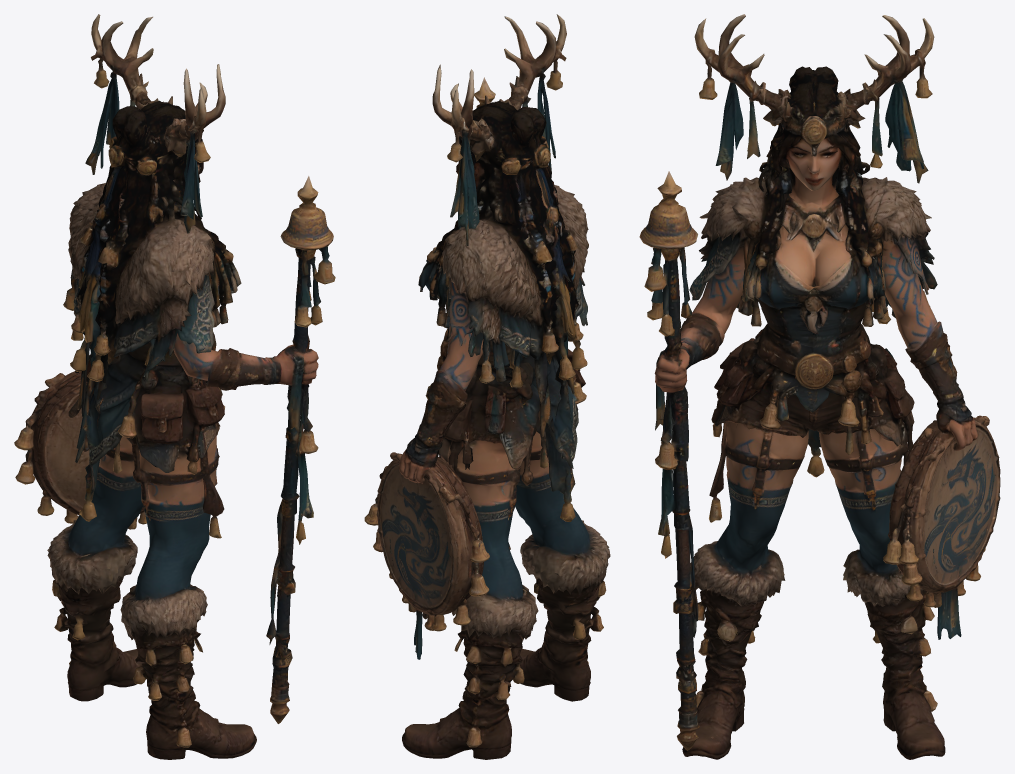
The model's file is drum_T3-tripo.glb.
The picture shows the model from 3 angles, left to right: view 1: azimuth 30°, elevation 25°; view 2: azimuth 150°, elevation 25°; view 3: azimuth 270°, elevation 25°; orthographic projection. The views are drawn at different scales.
Parts seen in each view (by area): view 1: tripo_node_dede4164-8c18-4496-936d-0f750398b5d3; view 2: tripo_node_dede4164-8c18-4496-936d-0f750398b5d3; view 3: tripo_node_dede4164-8c18-4496-936d-0f750398b5d3.
Boxes of the visible parts, left/top/right/bottom form: tripo_node_dede4164-8c18-4496-936d-0f750398b5d3: left=14, top=14, right=335, bottom=759; tripo_node_dede4164-8c18-4496-936d-0f750398b5d3: left=364, top=14, right=610, bottom=759; tripo_node_dede4164-8c18-4496-936d-0f750398b5d3: left=639, top=14, right=1000, bottom=759.
Bounding box in the file's own units: 0.2871 × 1 × 0.4499.
1 material, 1 textured.
